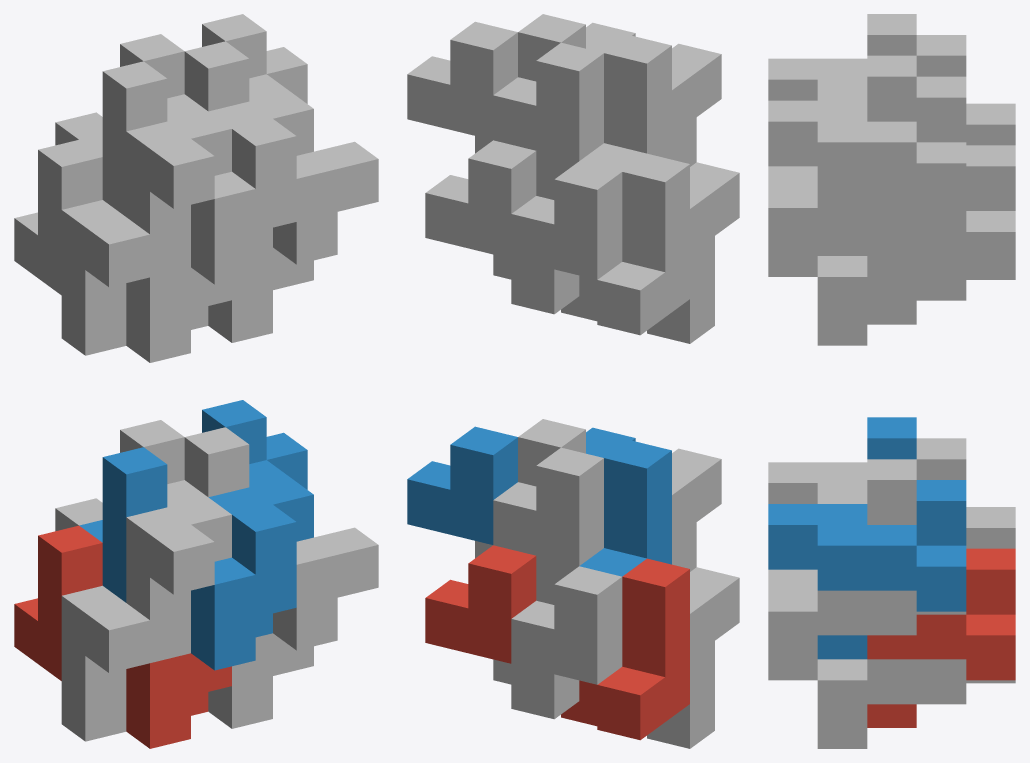
Rendered from tiling.obj.
The picture shows the model from 3 angles, left to right: view 1: azimuth 30°, elevation 25°; view 2: azimuth 150°, elevation 25°; view 3: azimuth 270°, elevation 25°; orthographic projection. The views are drawn at different scales.
Parts seen in each view (by area): view 1: copy_2_domain_4, copy_2_domain_2, copy_1_domain_2, copy_1_domain_4, copy_1_domain_1, copy_1_domain_3, copy_2_domain_3, copy_2_domain_1, copy_1_domain_8, copy_1_domain_6, copy_2_domain_8, copy_2_domain_6 (+2 smaller); view 2: copy_2_domain_1, copy_2_domain_3, copy_2_domain_2, copy_2_domain_4, copy_1_domain_3, copy_1_domain_1, copy_2_domain_6, copy_2_domain_8, copy_2_domain_7, copy_2_domain_5, copy_1_domain_4, copy_1_domain_2 (+4 smaller); view 3: copy_2_domain_8, copy_2_domain_6, copy_1_domain_6, copy_1_domain_8, copy_2_domain_5, copy_2_domain_7, copy_1_domain_5, copy_1_domain_7, copy_2_domain_4, copy_2_domain_2, copy_1_domain_2, copy_2_domain_3 (+2 smaller).
Part boxes in pixels (left/top/right/bottom): copy_2_domain_4: left=120, top=34, right=231, bottom=277; copy_2_domain_2: left=120, top=420, right=231, bottom=662; copy_1_domain_2: left=79, top=447, right=296, bottom=670; copy_1_domain_4: left=79, top=61, right=296, bottom=284; copy_1_domain_1: left=14, top=525, right=231, bottom=748; copy_1_domain_3: left=14, top=140, right=231, bottom=362; copy_2_domain_3: left=55, top=112, right=149, bottom=355; copy_2_domain_1: left=55, top=498, right=149, bottom=741; copy_1_domain_8: left=184, top=41, right=378, bottom=264; copy_1_domain_6: left=184, top=427, right=378, bottom=650; copy_2_domain_8: left=202, top=14, right=313, bottom=251; copy_2_domain_6: left=202, top=400, right=313, bottom=637; copy_2_domain_1: left=511, top=566, right=739, bottom=748; copy_2_domain_3: left=511, top=161, right=739, bottom=343; copy_2_domain_2: left=493, top=447, right=721, bottom=571; copy_2_domain_4: left=493, top=42, right=721, bottom=166; copy_1_domain_3: left=579, top=153, right=689, bottom=335; copy_1_domain_1: left=579, top=558, right=689, bottom=740; copy_2_domain_6: left=407, top=426, right=635, bottom=544; copy_2_domain_8: left=407, top=21, right=635, bottom=139; copy_2_domain_7: left=425, top=140, right=597, bottom=321; copy_2_domain_5: left=425, top=545, right=597, bottom=726; copy_1_domain_4: left=579, top=35, right=671, bottom=171; copy_1_domain_2: left=579, top=440, right=671, bottom=576; copy_2_domain_8: left=768, top=76, right=966, bottom=255; copy_2_domain_6: left=768, top=480, right=966, bottom=659; copy_1_domain_6: left=768, top=459, right=966, bottom=680; copy_1_domain_8: left=768, top=55, right=966, bottom=276; copy_2_domain_5: left=867, top=548, right=1015, bottom=727; copy_2_domain_7: left=867, top=145, right=1015, bottom=324; copy_1_domain_5: left=817, top=659, right=1015, bottom=748; copy_1_domain_7: left=817, top=256, right=1015, bottom=345; copy_2_domain_4: left=768, top=35, right=966, bottom=100; copy_2_domain_2: left=768, top=438, right=966, bottom=503; copy_1_domain_2: left=867, top=417, right=916, bottom=459; copy_2_domain_3: left=966, top=103, right=1015, bottom=145.
Bounding box in the file's own units: 6 × 15 × 5.
